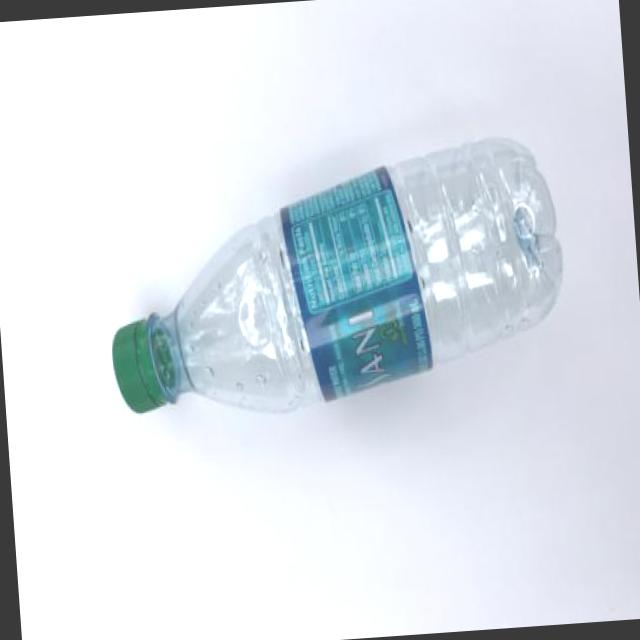Trash: (92, 154, 577, 456)
